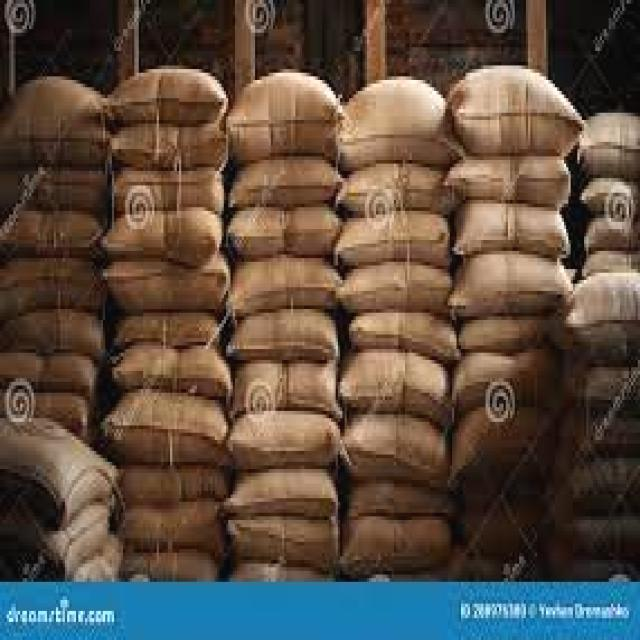sack: (449, 68, 586, 156), (446, 407, 562, 498), (228, 67, 339, 162), (337, 80, 460, 163), (102, 391, 228, 466), (0, 80, 107, 167), (342, 351, 456, 422), (449, 252, 573, 317), (342, 416, 448, 489), (453, 349, 560, 418), (446, 151, 571, 210), (104, 254, 228, 313), (557, 270, 640, 355), (226, 507, 338, 569), (102, 207, 223, 263), (228, 412, 340, 472), (451, 202, 570, 258), (336, 162, 460, 215), (338, 521, 452, 577), (109, 68, 227, 122), (225, 307, 342, 361), (227, 260, 339, 316), (114, 343, 232, 395), (110, 119, 225, 172), (335, 213, 452, 265), (348, 307, 460, 361), (228, 158, 338, 212), (120, 500, 226, 556), (228, 358, 342, 410), (229, 204, 341, 255), (0, 262, 102, 318), (224, 468, 338, 516), (0, 205, 103, 258), (339, 265, 450, 312), (0, 306, 104, 356), (110, 462, 230, 505), (109, 166, 223, 209), (459, 311, 567, 354), (578, 109, 640, 179), (1, 356, 100, 398), (113, 310, 220, 348), (345, 481, 452, 518), (583, 178, 640, 220)
